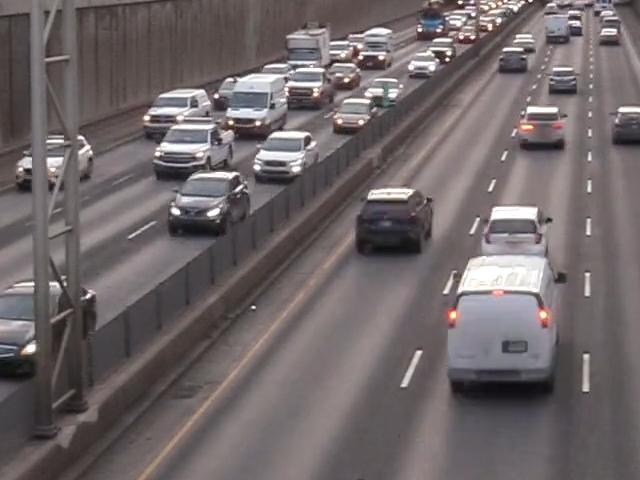car: (0, 271, 98, 378), (165, 167, 254, 234), (356, 187, 433, 260), (153, 120, 235, 178), (483, 197, 560, 258), (16, 134, 94, 191), (144, 86, 218, 139), (503, 102, 578, 153), (253, 129, 321, 183), (282, 66, 331, 109), (330, 95, 376, 134), (363, 77, 405, 109), (610, 104, 640, 144), (259, 62, 296, 89), (216, 76, 248, 107), (546, 64, 579, 94), (328, 60, 361, 89), (356, 44, 392, 70), (498, 45, 531, 73), (326, 42, 359, 68), (407, 54, 440, 79), (429, 43, 457, 67), (512, 33, 536, 56)
truck: (287, 27, 334, 72)
van: (438, 252, 578, 390), (221, 76, 290, 139)
